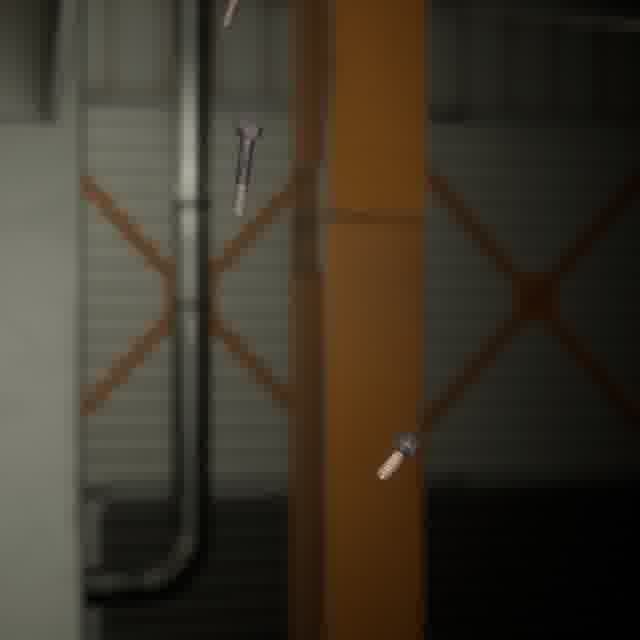bolt: (227, 116, 266, 221), (371, 429, 424, 486), (215, 0, 246, 33)
